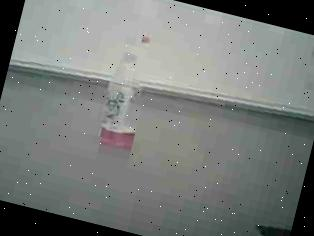hazard: (88, 22, 167, 160)
